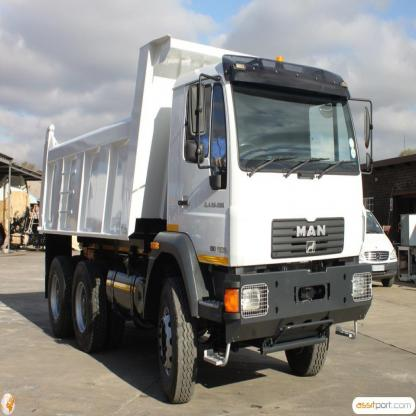dump_truck: (34, 28, 374, 404)
